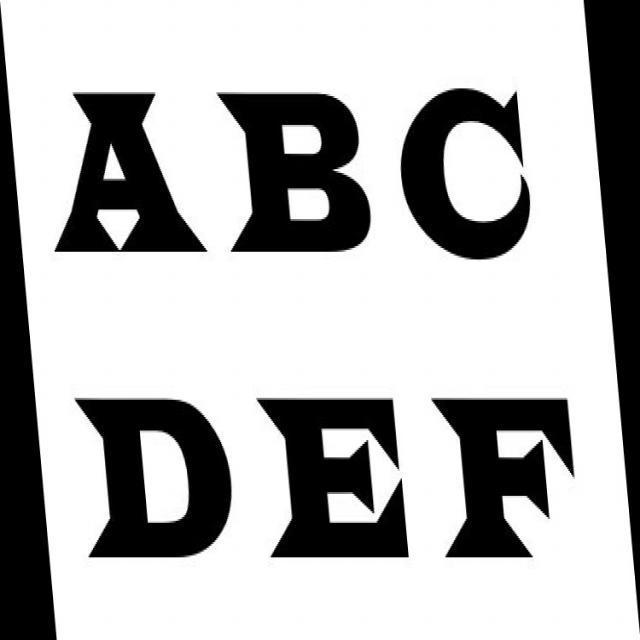A: (41, 80, 211, 266)
B: (216, 85, 374, 259)
C: (395, 81, 535, 270)
D: (61, 385, 235, 570)
E: (251, 390, 418, 572)
F: (428, 387, 586, 566)
